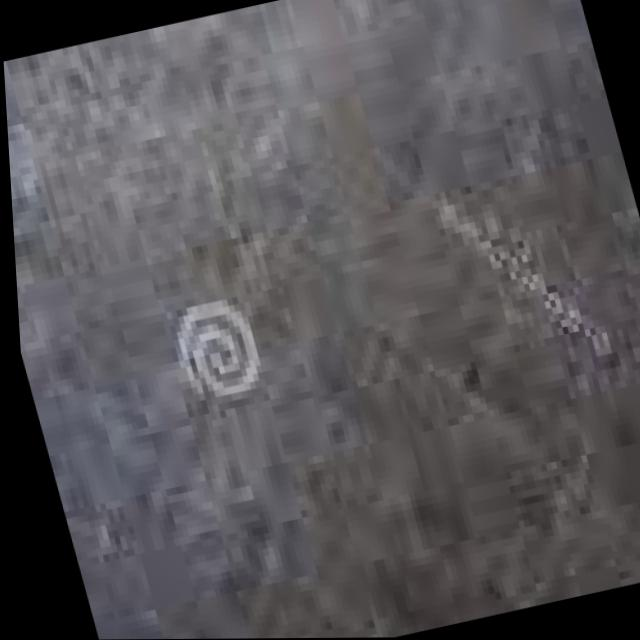metal-plates: (4, 1, 640, 640)
